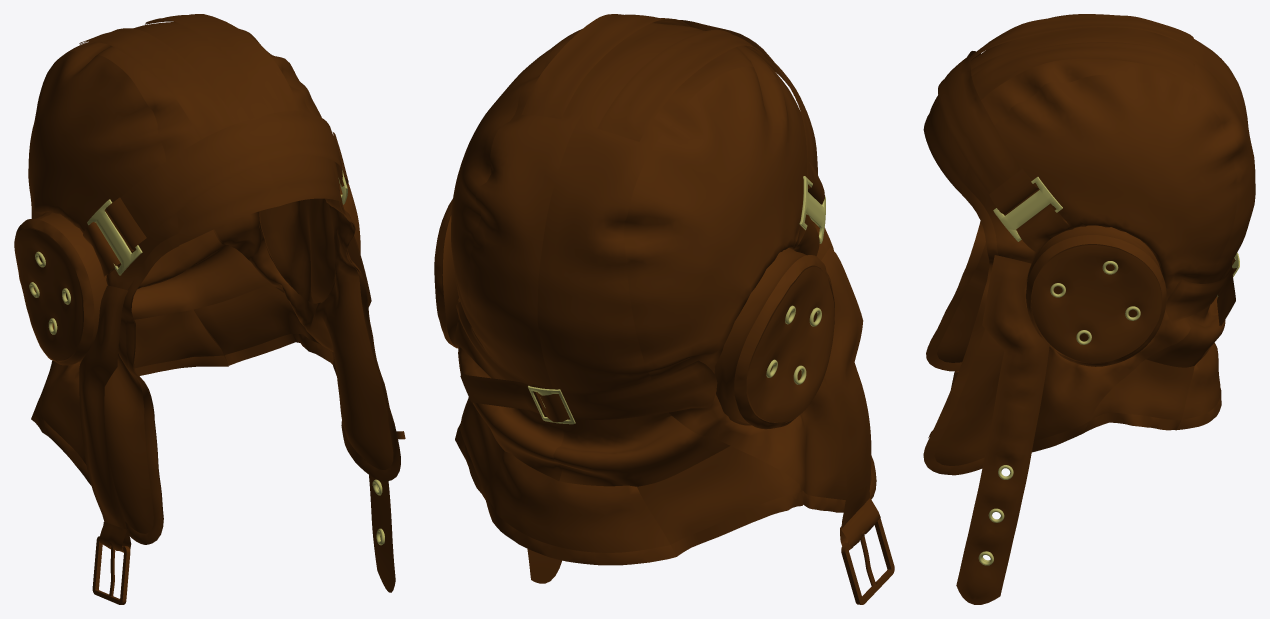
The model's file is 1767719528604_FlightCap.fbx.
3 renders of one model, left to right at view 1: azimuth 30°, elevation 25°; view 2: azimuth 150°, elevation 25°; view 3: azimuth 270°, elevation 25°, orthographic. The views are drawn at different scales.
Parts seen in each view (by area): view 1: HAT_002___THIN__UNWELD__002; view 2: HAT_002___THIN__UNWELD__002; view 3: HAT_002___THIN__UNWELD__002.
Boxes of the visible parts, <box> form: HAT_002___THIN__UNWELD__002: <box>14,14,405,604</box>; HAT_002___THIN__UNWELD__002: <box>434,14,894,604</box>; HAT_002___THIN__UNWELD__002: <box>923,14,1255,604</box>.
Size of the model in its own units: 2015 by 3567 by 2116.
